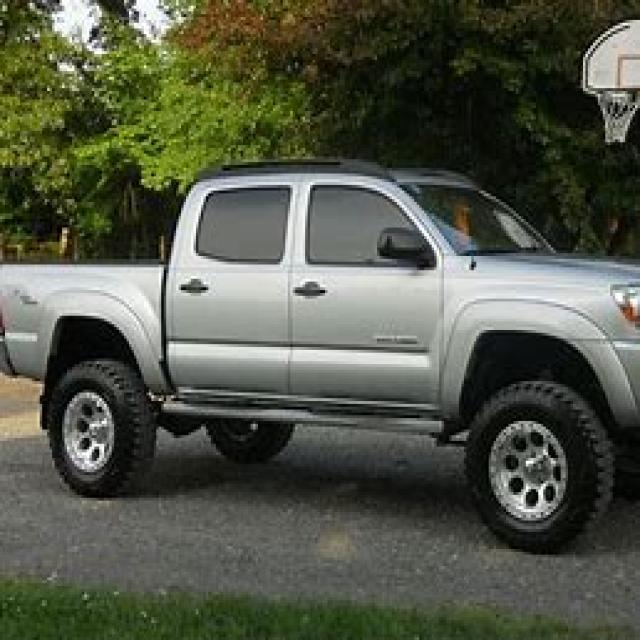light_vehicle: (10, 145, 637, 569)
